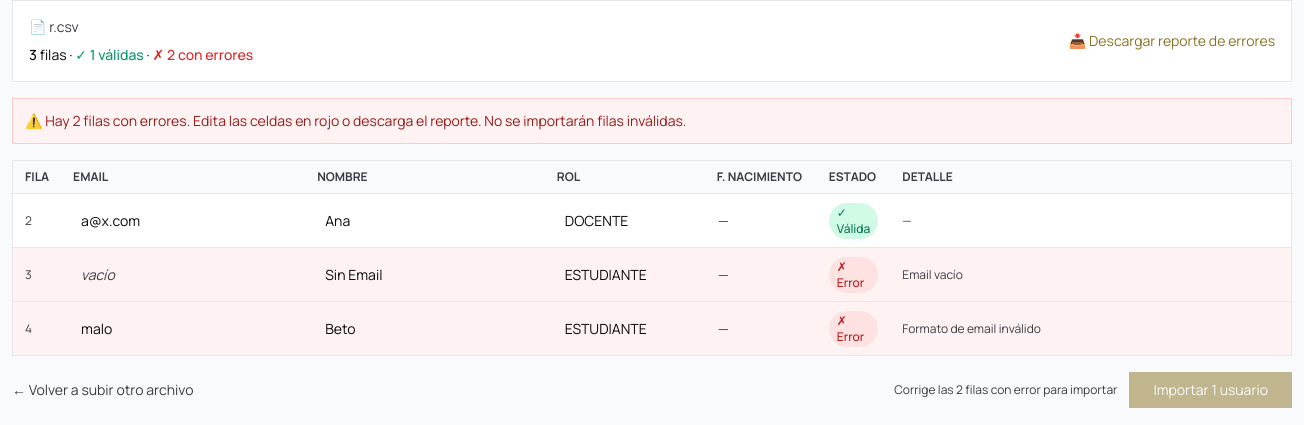
Test: CsvPreviewTable › click en "X válidas" filtra a válidas
Click the button with test id "filtro-validas": (110, 55) [75,45,144,65]
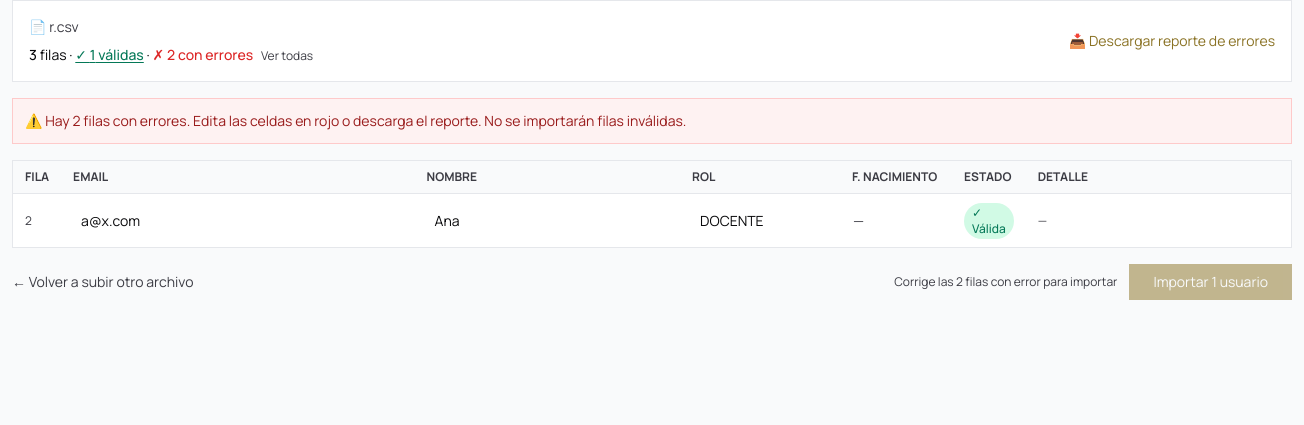
Expected: the text "a@x.com" is shown, [81,210,140,230]
Result: the text "Sin Email" is gone
